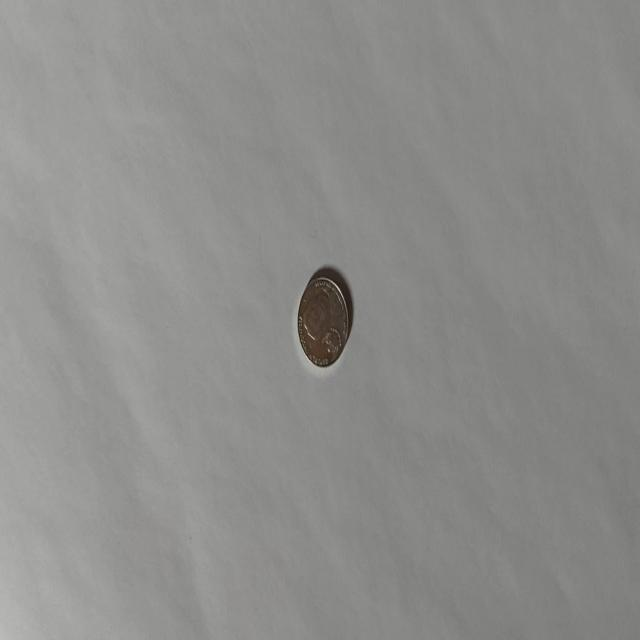seratus rupiah: (296, 274, 349, 368)
